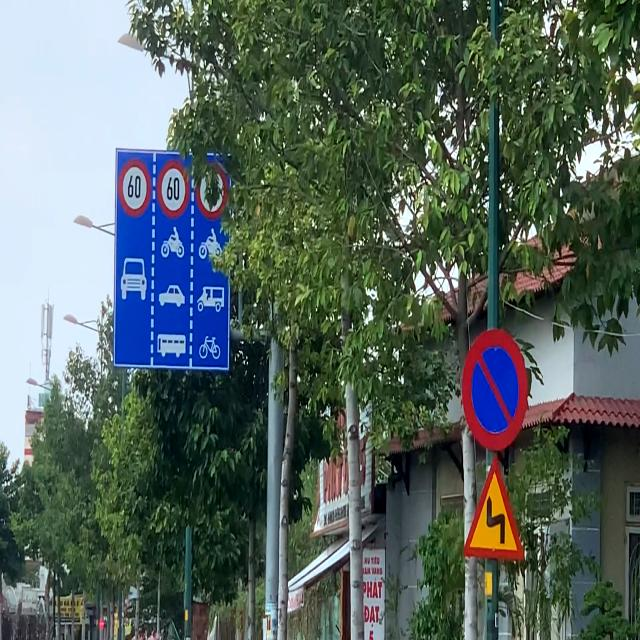P.127: (118, 150, 151, 228), (157, 154, 192, 220)
P.131a: (463, 314, 530, 454)
W.202a: (460, 448, 530, 566)
